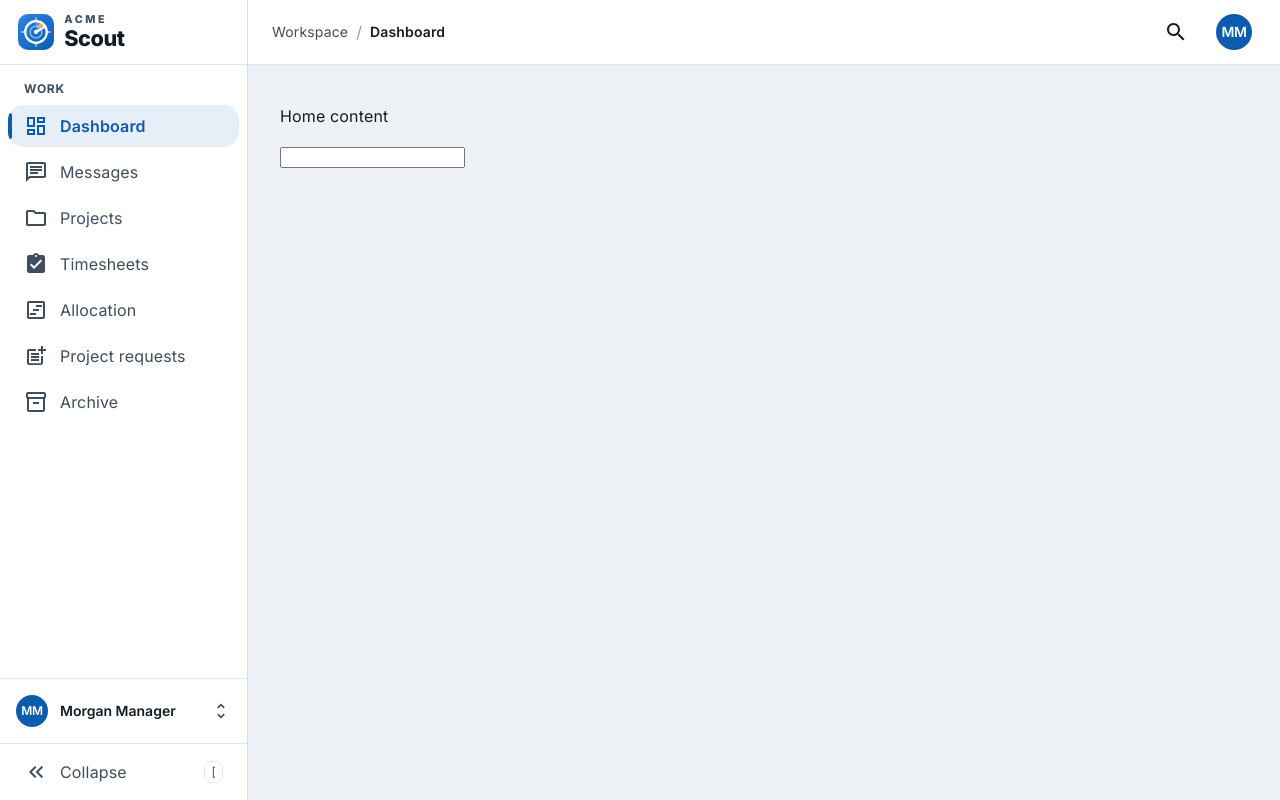
Scenario: Layout › every role (manager) can open the profile photo dialog from the account menu
This screenshot has width=1280, height=800.
Step 1. Click the button with aria-label "Account menu" → point(1234, 32), box 1212,10 -> 1256,54
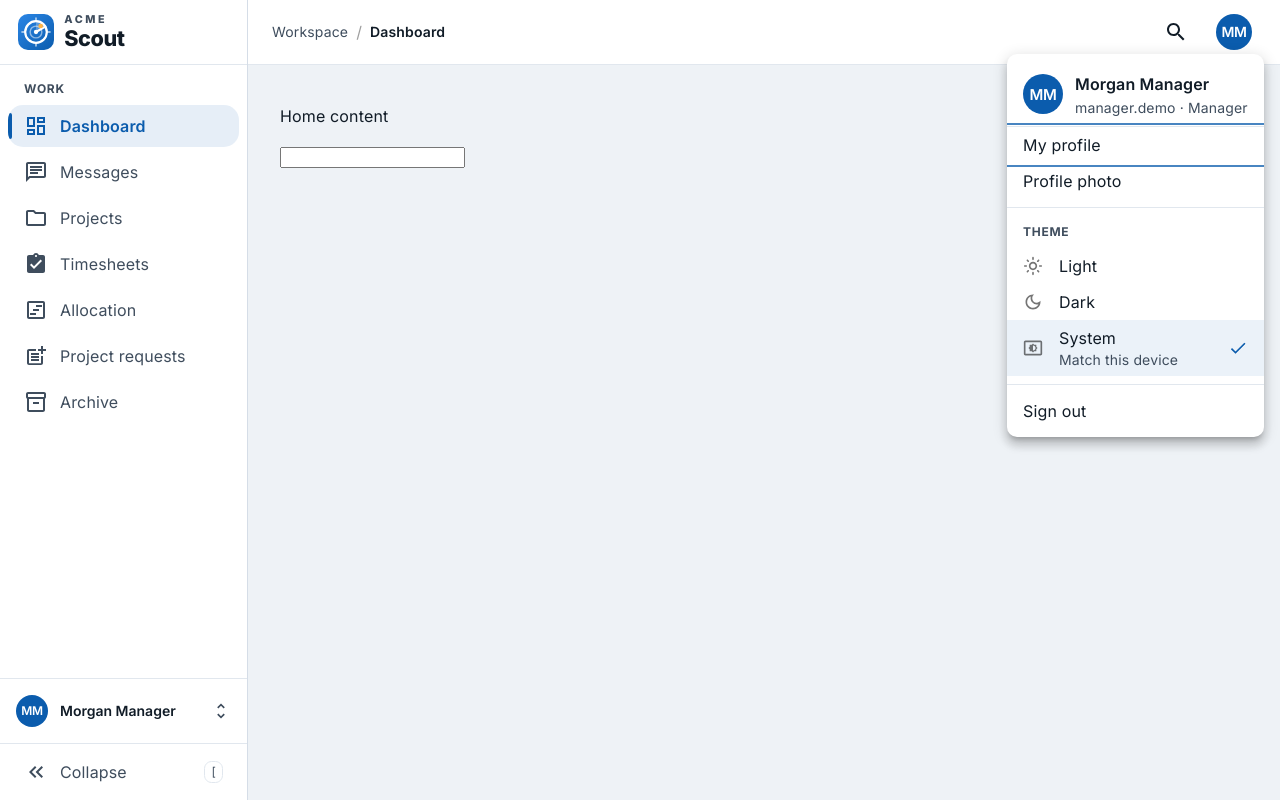
Step 2. Click the menu item "Profile photo" → point(1072, 181), box 1023,171 -> 1122,191
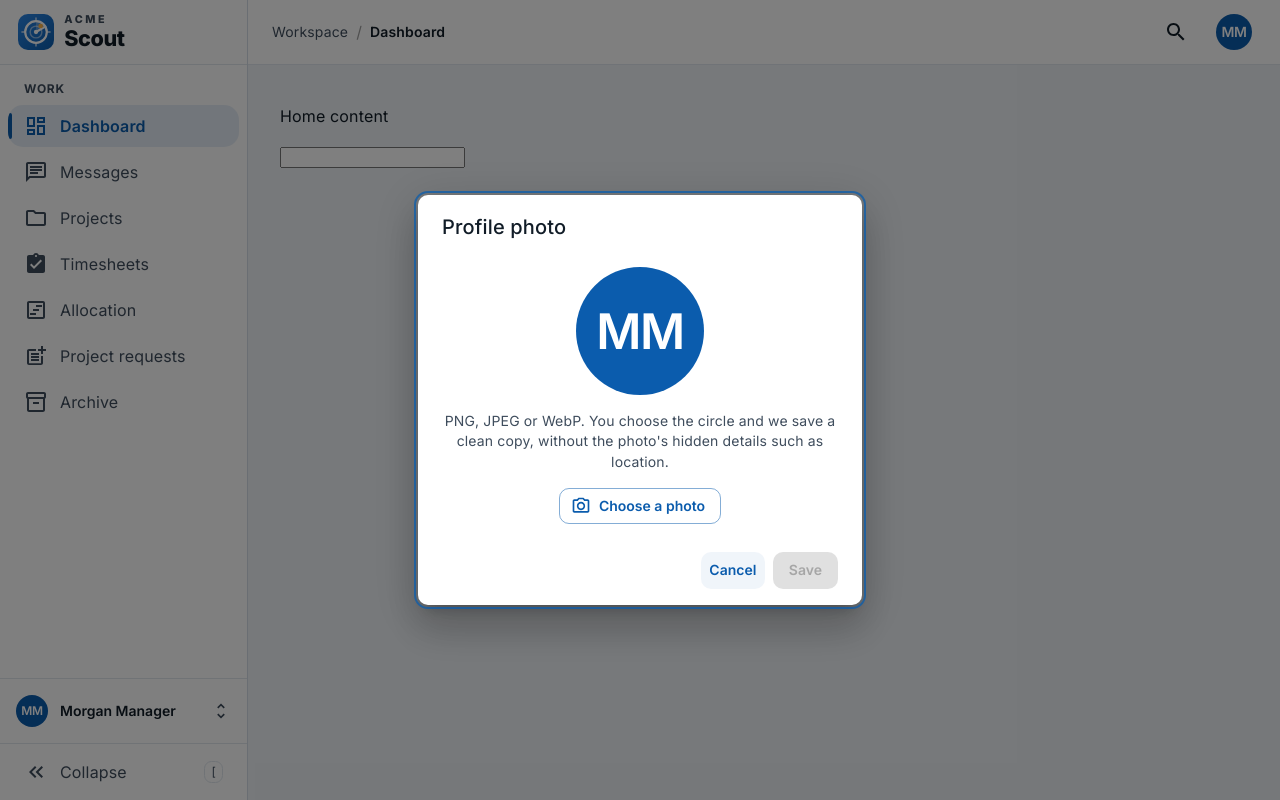
Check: the button "Choose a photo" is shown, box 559,488 -> 721,524
